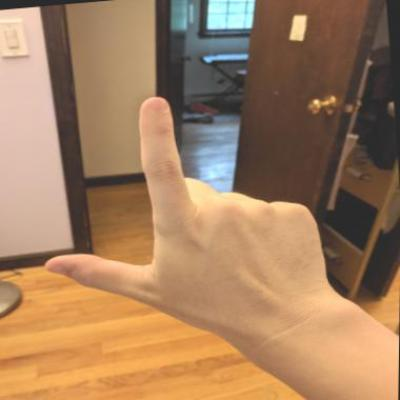hand: (22, 78, 343, 357)
